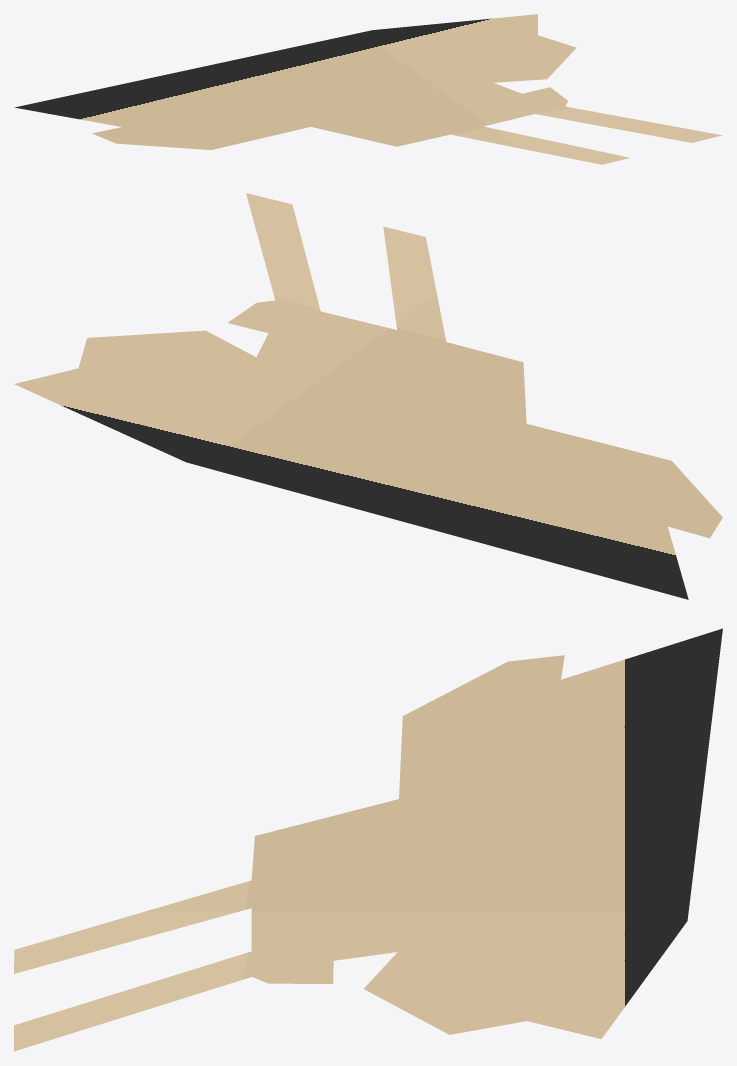
File: west_zs05_sd.FBX
The picture shows the model from 3 angles, top to bottom: view 1: azimuth 30°, elevation 25°; view 2: azimuth 150°, elevation 25°; view 3: azimuth 270°, elevation 25°; orthographic projection. The views are drawn at different scales.
Parts seen in each view (by area): view 1: west_zs05_sd; view 2: west_zs05_sd; view 3: west_zs05_sd.
Part boxes in pixels (<box>): west_zs05_sd: <box>14,14,721,164</box>; west_zs05_sd: <box>14,193,722,599</box>; west_zs05_sd: <box>14,628,722,1051</box>.
Size of the model in its own units: 3808 by 0.000236 by 2696.
